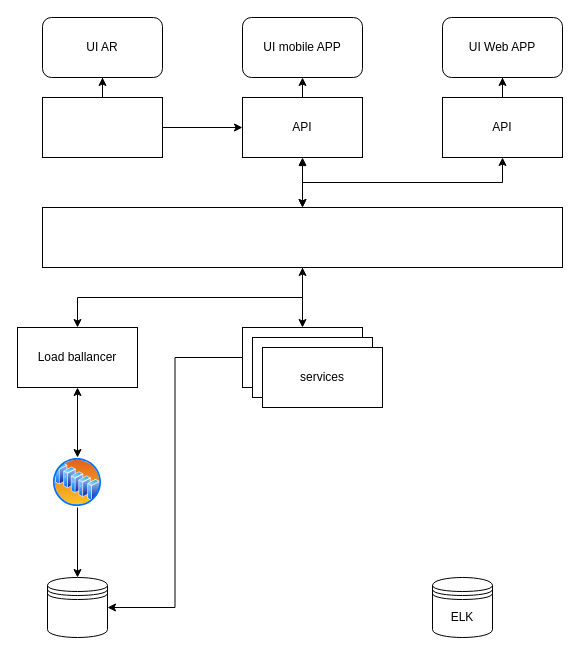
Image size: 580x655. Some labels were removed from this diagram. The shapes that lost their labels are listed below. From the top down, each one's centre as x and y in pixels, then its label:
point (102, 127): AR detection
point (302, 237): Proxy
point (77, 482): IA
point (77, 607): mongo DB
